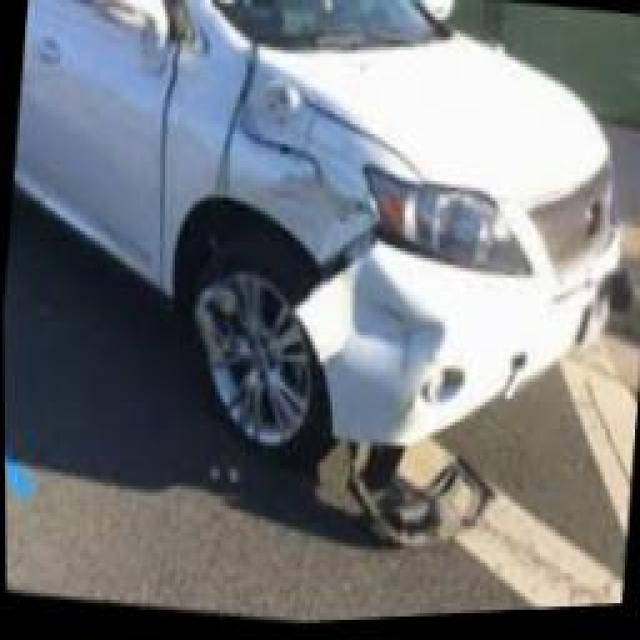replaceable: (242, 51, 369, 240), (324, 268, 445, 430)
